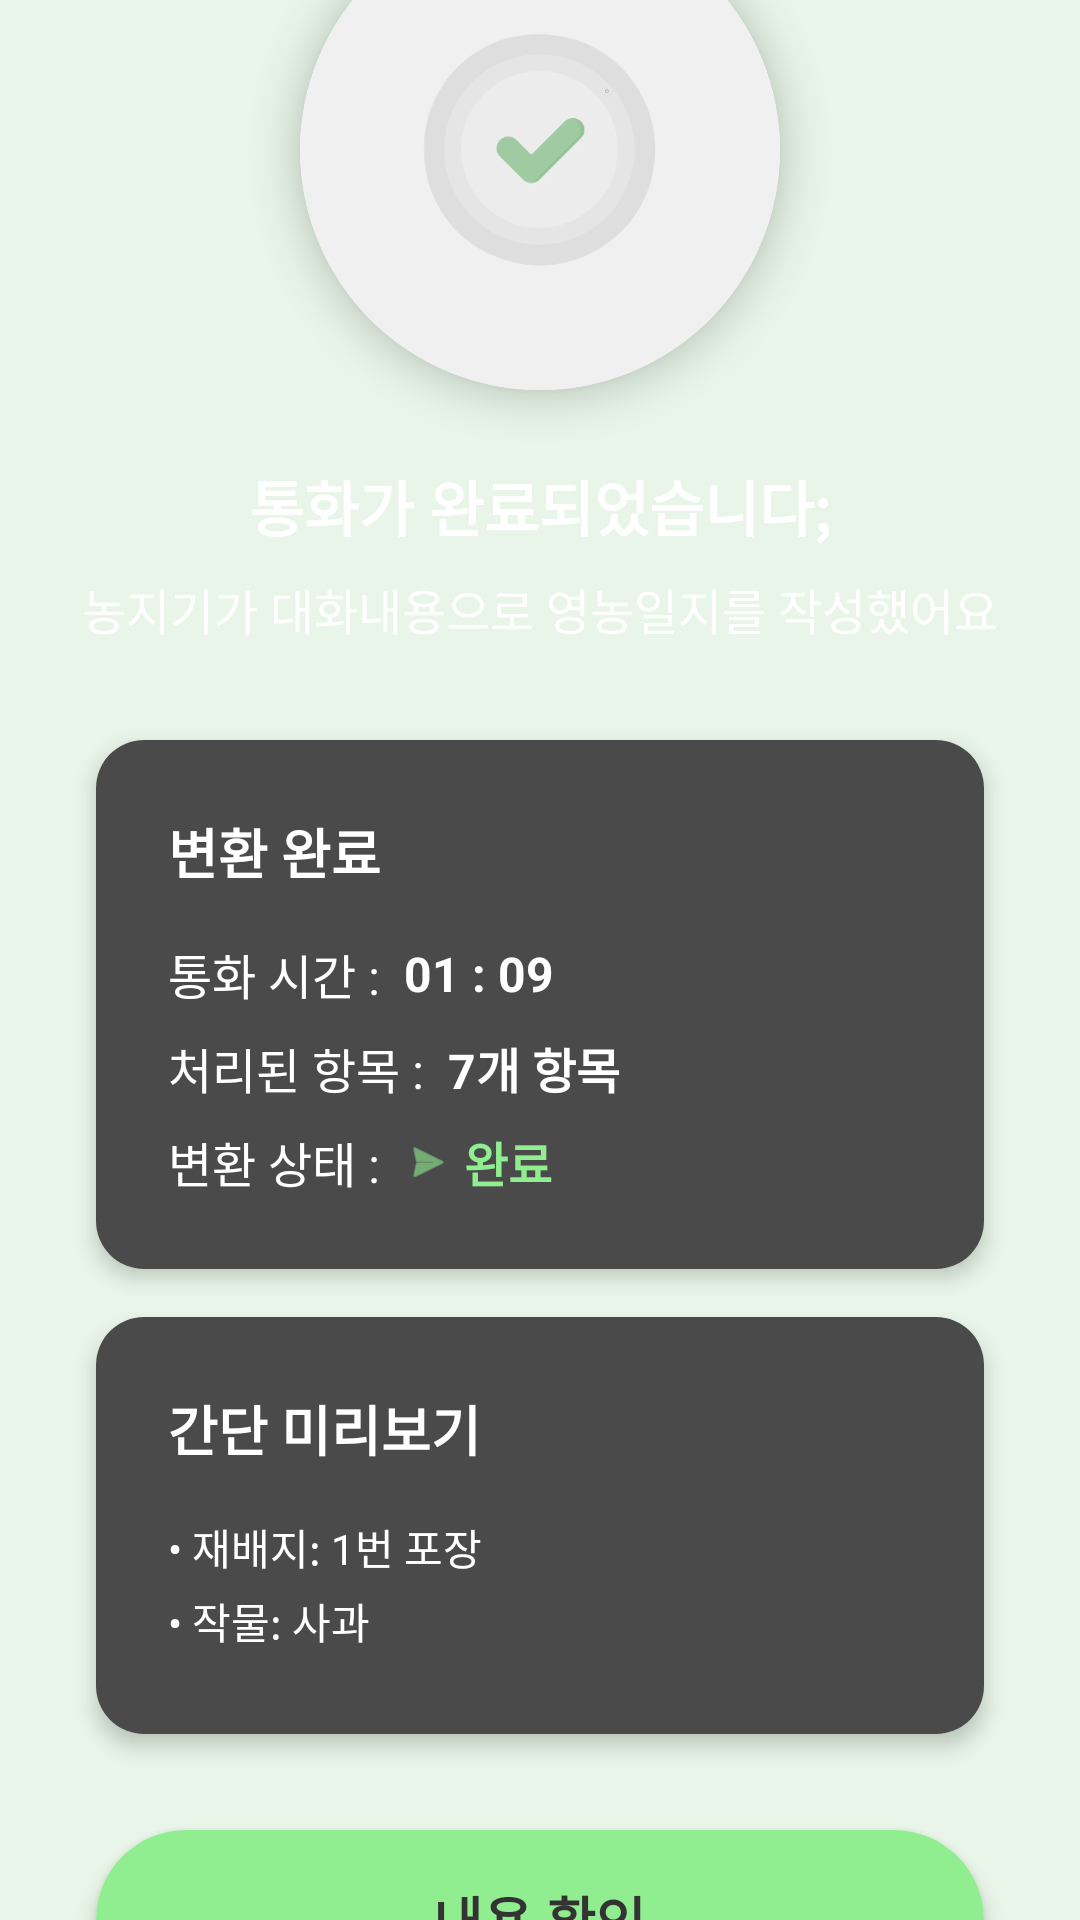

Locate icon controls on the screen. Image size 1080px×1920px, boxes as BBox(x1, y1, x2, y2).
record confirm: BBox(496, 89, 609, 183)
send: BBox(413, 1147, 444, 1177)
